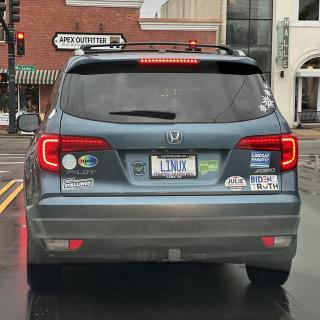license: (150, 154, 200, 180)
